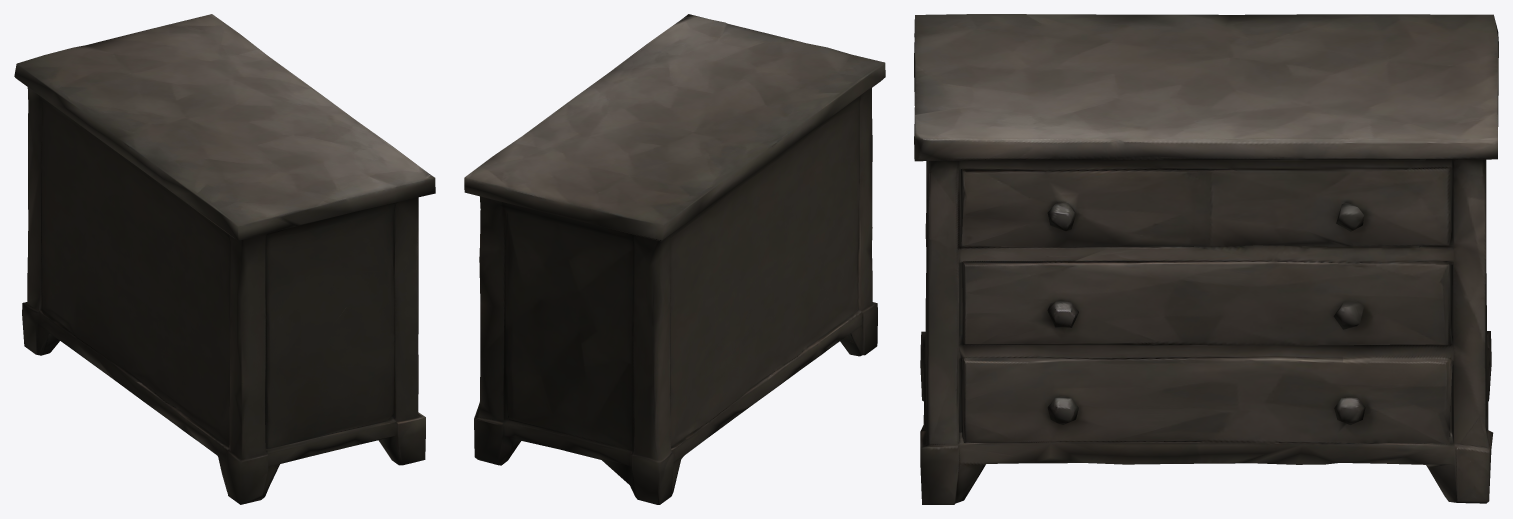
The model's file is wooden+dresser+3d+model.glb.
The picture shows the model from 3 angles, left to right: view 1: azimuth 30°, elevation 25°; view 2: azimuth 150°, elevation 25°; view 3: azimuth 270°, elevation 25°; orthographic projection. The views are drawn at different scales.
Parts seen in each view (by area): view 1: tripo_node_d68c92b1-12c2-41ea-baf1-c18b235b0e2e; view 2: tripo_node_d68c92b1-12c2-41ea-baf1-c18b235b0e2e; view 3: tripo_node_d68c92b1-12c2-41ea-baf1-c18b235b0e2e.
Boxes of the visible parts, box(x1,y1,x2,y2) form: tripo_node_d68c92b1-12c2-41ea-baf1-c18b235b0e2e: box(14, 14, 435, 504); tripo_node_d68c92b1-12c2-41ea-baf1-c18b235b0e2e: box(464, 14, 885, 504); tripo_node_d68c92b1-12c2-41ea-baf1-c18b235b0e2e: box(914, 14, 1498, 504).
Bounding box in the file's own units: 0.5284 × 0.7013 × 1.
1 material, 1 textured.
